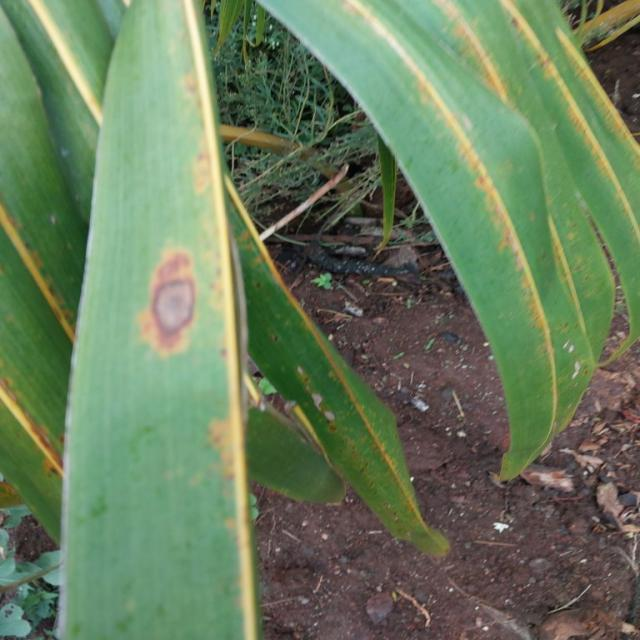gray leaf spot: (125, 206, 227, 487)
